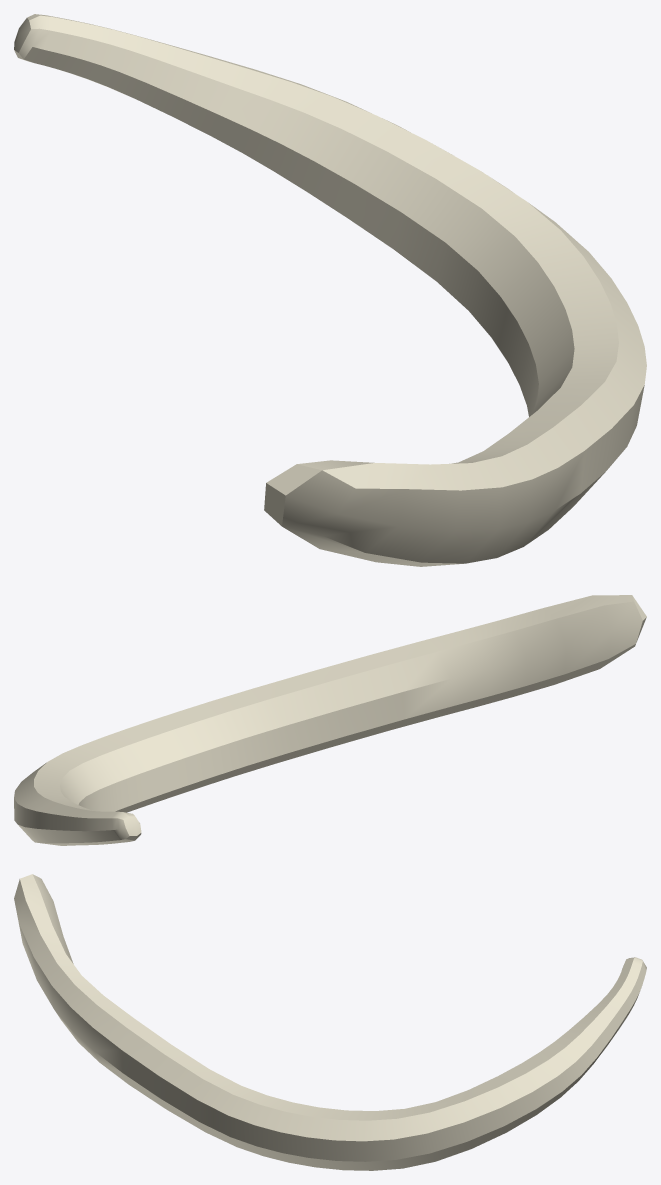
The model's file is Os_COTE4.fbx.
3 renders of one model, top to bottom at view 1: azimuth 30°, elevation 25°; view 2: azimuth 150°, elevation 25°; view 3: azimuth 270°, elevation 25°, orthographic. The views are drawn at different scales.
Visible parts, largest first — view 1: Os Côté.4; view 2: Os Côté.4; view 3: Os Côté.4.
Boxes of the visible parts, box(x1,y1,x2,y2) form: Os Côté.4: box(14, 14, 646, 566); Os Côté.4: box(14, 595, 646, 845); Os Côté.4: box(14, 874, 646, 1170).
Size of the model in its own units: 1019 by 394 by 1565.
